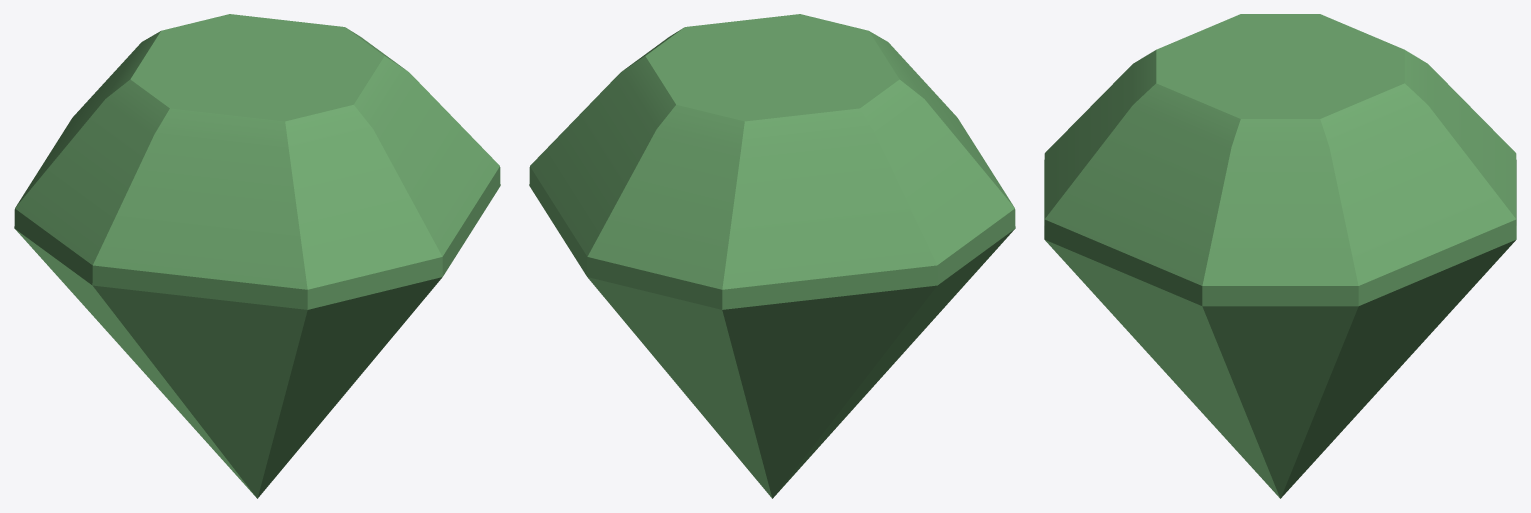
Rendered from Gem_Green.fbx.
3 renders of one model, left to right at view 1: azimuth 30°, elevation 25°; view 2: azimuth 150°, elevation 25°; view 3: azimuth 270°, elevation 25°, orthographic.
Visible parts, largest first — view 1: Gem_Green; view 2: Gem_Green; view 3: Gem_Green.
Boxes of the visible parts, <box> form: Gem_Green: <box>14,14,500,498</box>; Gem_Green: <box>529,14,1015,498</box>; Gem_Green: <box>1044,14,1516,498</box>.
Bounding box in the file's own units: 150 × 151 × 150.
